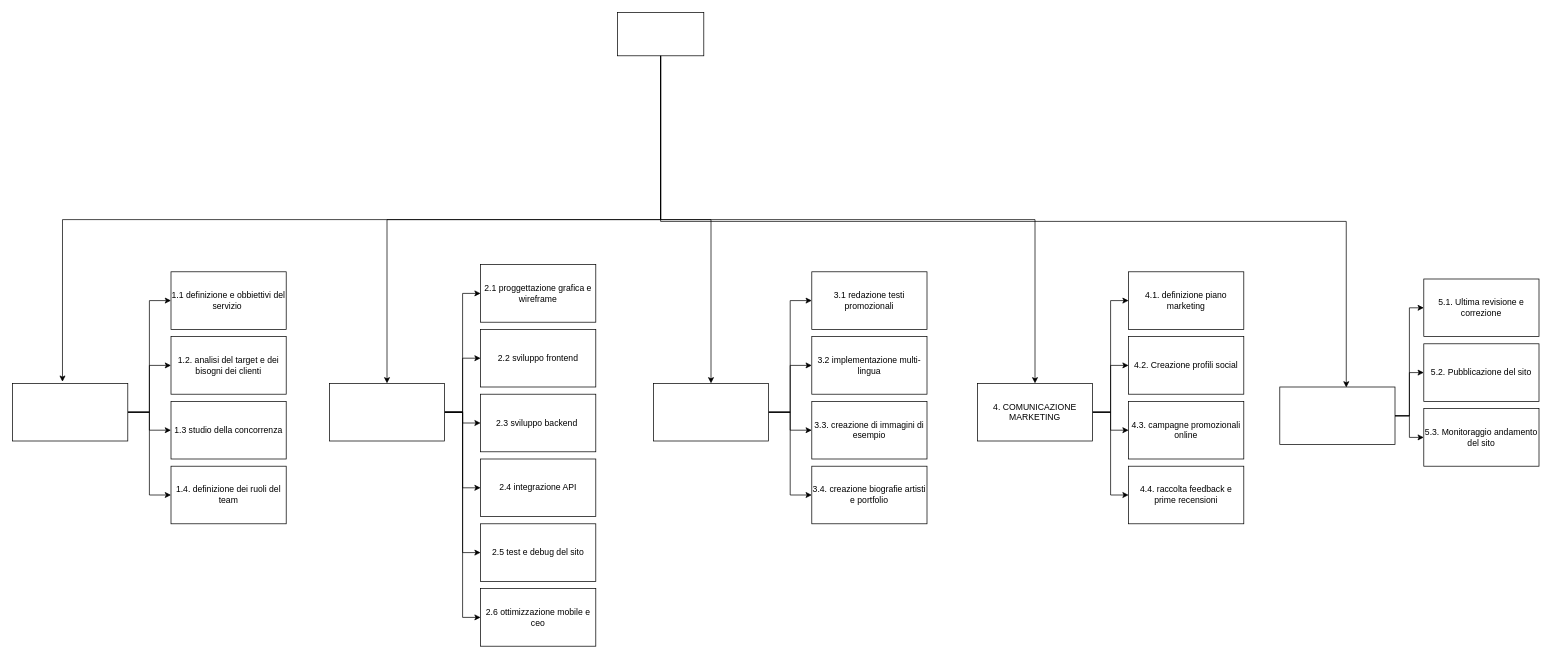
The diagram is 1552 pixels wide and 659 high, and some of its shapes have lost their labels. The shapes that lost their labels are listed below. From the top down, each one's centre as x and y in pixels, then its label:
point (660, 34): ART4YOU
point (70, 412): 1. PIANIFICAZIONE DEL PROGETTO
point (387, 412): 2. SVILUPPO DEL SITO WEB
point (711, 412): 3. CREAZIONE DEI CONTENUTI
point (1337, 415): 5. LANCIO DEL SERVIZO
